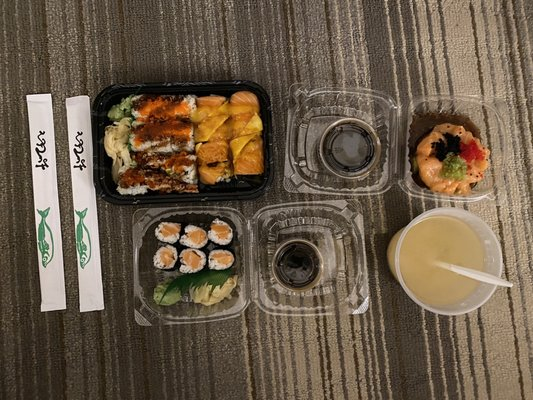salad: (433, 259, 512, 289)
sandwich: (27, 93, 71, 314)
sushi: (92, 80, 271, 205), (133, 206, 249, 326), (251, 203, 371, 318), (387, 207, 507, 316)
